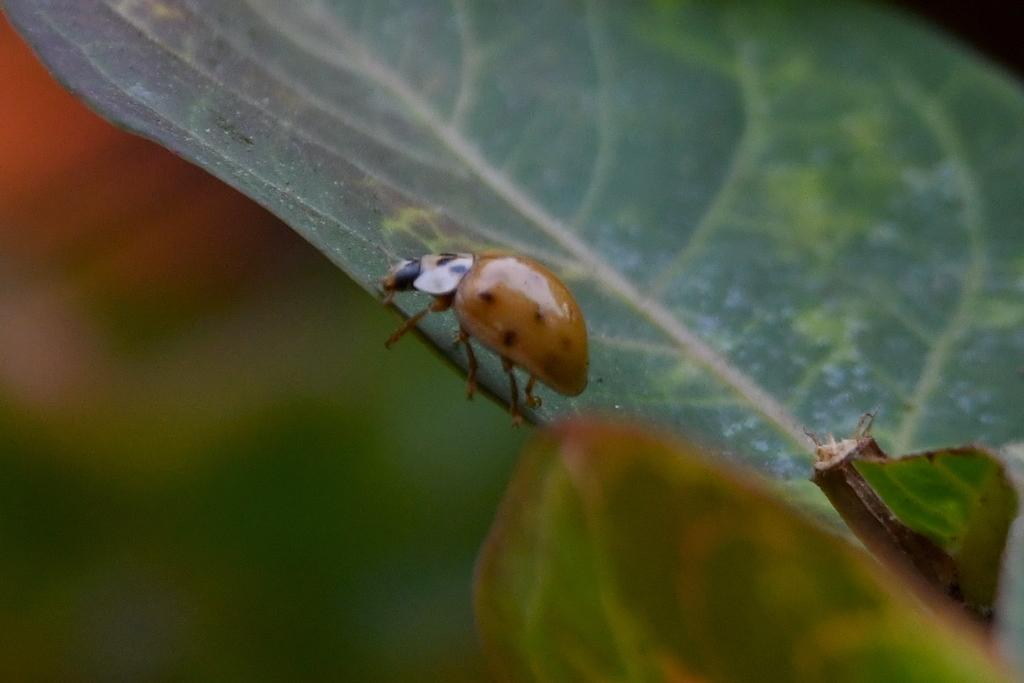ladybug: (375, 249, 595, 433)
